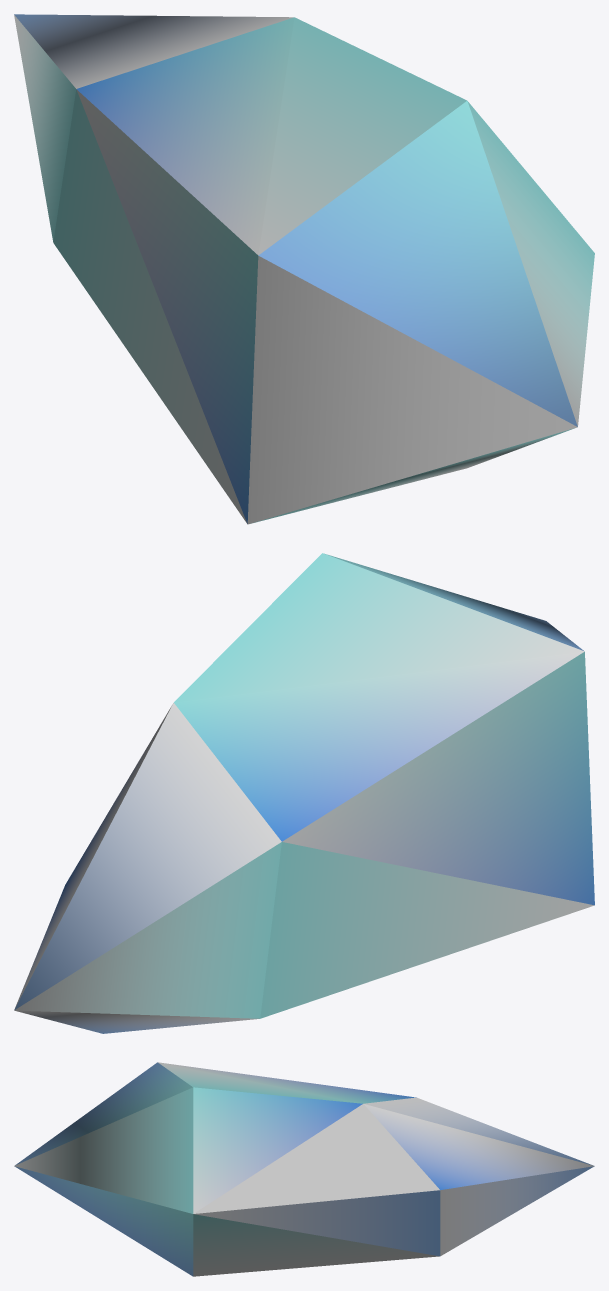
Rendered from eff_ice000_mesh.fbx.
3 renders of one model, top to bottom at view 1: azimuth 30°, elevation 25°; view 2: azimuth 150°, elevation 25°; view 3: azimuth 270°, elevation 25°, orthographic. The views are drawn at different scales.
Parts seen in each view (by area): view 1: eff_ice000_mesh; view 2: eff_ice000_mesh; view 3: eff_ice000_mesh.
Part boxes in pixels (<box>): eff_ice000_mesh: <box>14,14,594,524</box>; eff_ice000_mesh: <box>14,553,594,1033</box>; eff_ice000_mesh: <box>14,1062,594,1276</box>.
Bounding box in the file's own units: 25.63 × 23.58 × 65.55.
